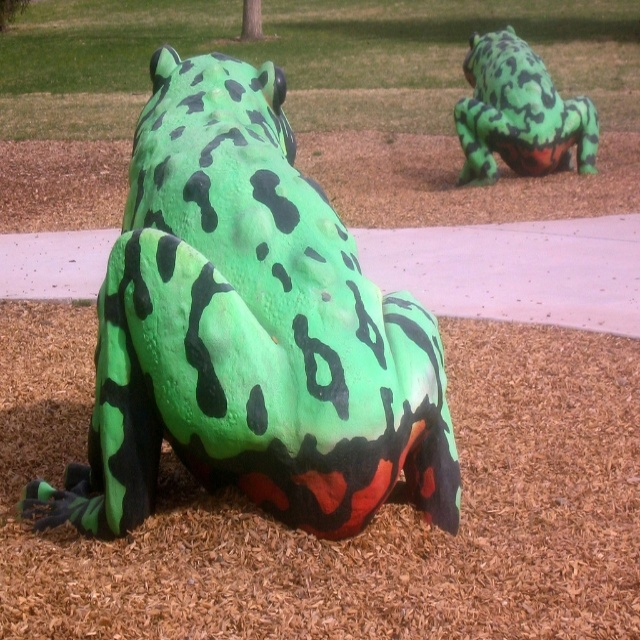Frog: (15, 44, 462, 539), (451, 23, 601, 188)
